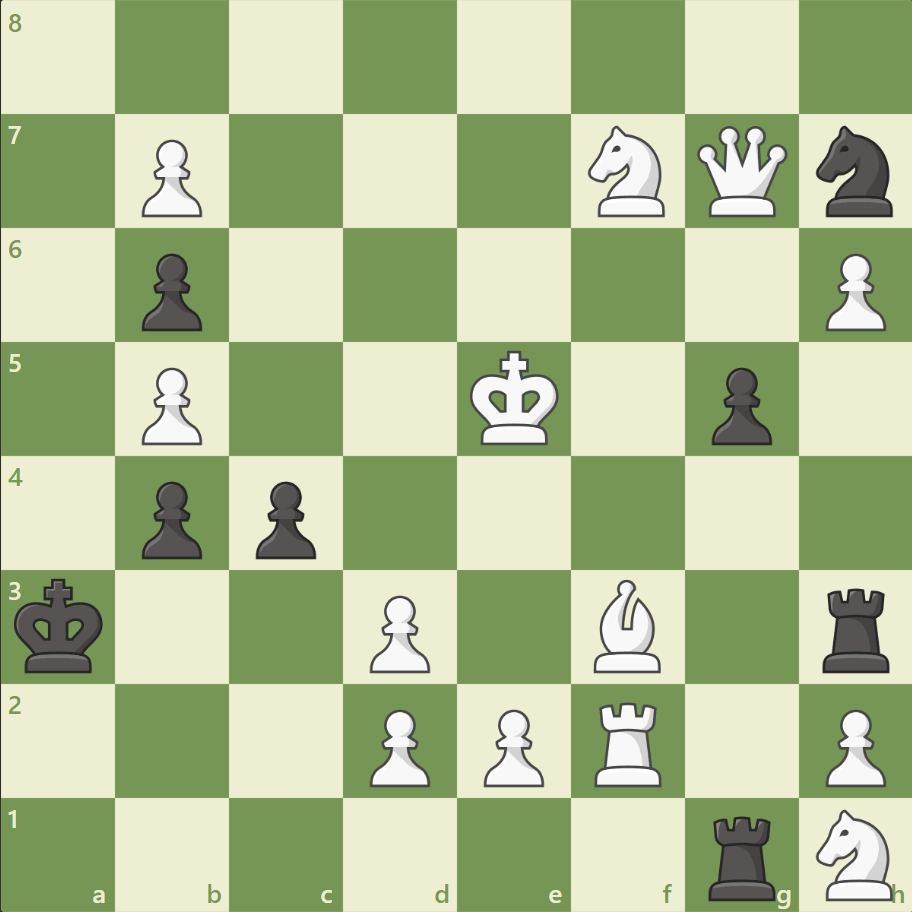B: (585, 574, 669, 676)
K: (465, 344, 565, 452)
N: (579, 121, 676, 223), (806, 802, 903, 904)
P: (133, 132, 208, 223), (133, 359, 208, 450), (474, 700, 549, 791), (815, 246, 889, 337), (361, 586, 435, 677), (361, 700, 435, 791), (815, 700, 889, 791)
Q: (691, 122, 790, 222)
R: (587, 693, 670, 790)
k: (11, 571, 111, 679)
n: (806, 121, 903, 223)
p: (133, 246, 208, 337), (701, 359, 776, 450), (133, 473, 208, 564), (247, 473, 322, 564)
r: (700, 806, 783, 904), (814, 579, 897, 676)
